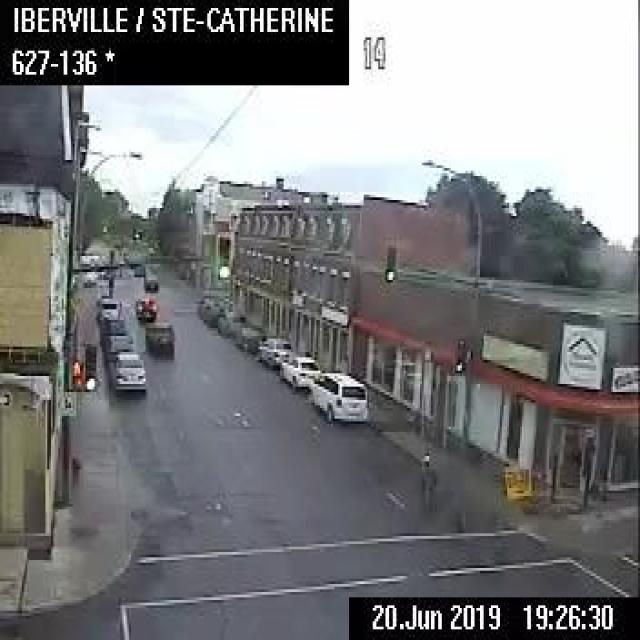pedestrian: (416, 445, 432, 498)
vehicle: (308, 372, 367, 422), (278, 355, 320, 389), (107, 352, 144, 389), (102, 316, 132, 357), (233, 320, 267, 353), (258, 335, 290, 367), (144, 320, 174, 352), (216, 308, 244, 336), (195, 287, 220, 316), (201, 296, 228, 322), (96, 296, 121, 322), (135, 295, 155, 319), (142, 272, 157, 289)
